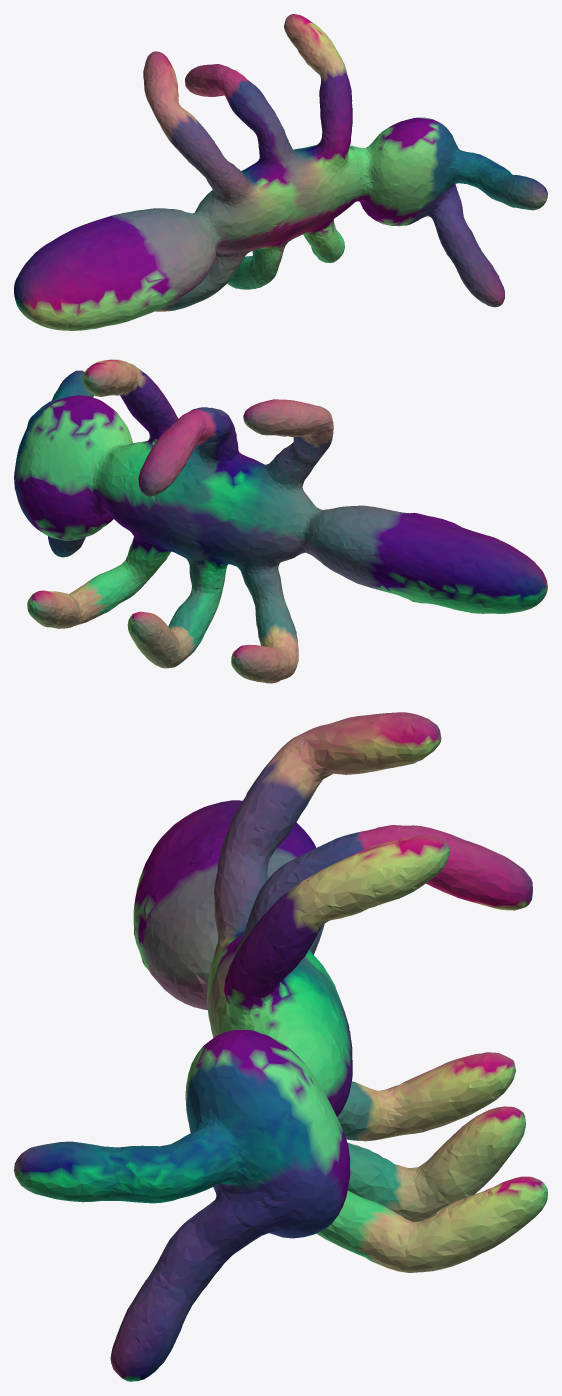
The model's file is ant-1.off.obj.
3 renders of one model, top to bottom at view 1: azimuth 30°, elevation 25°; view 2: azimuth 150°, elevation 25°; view 3: azimuth 270°, elevation 25°, orthographic. The views are drawn at different scales.
Bounding box in the file's own units: 1.61 × 0.8309 × 0.9008.
